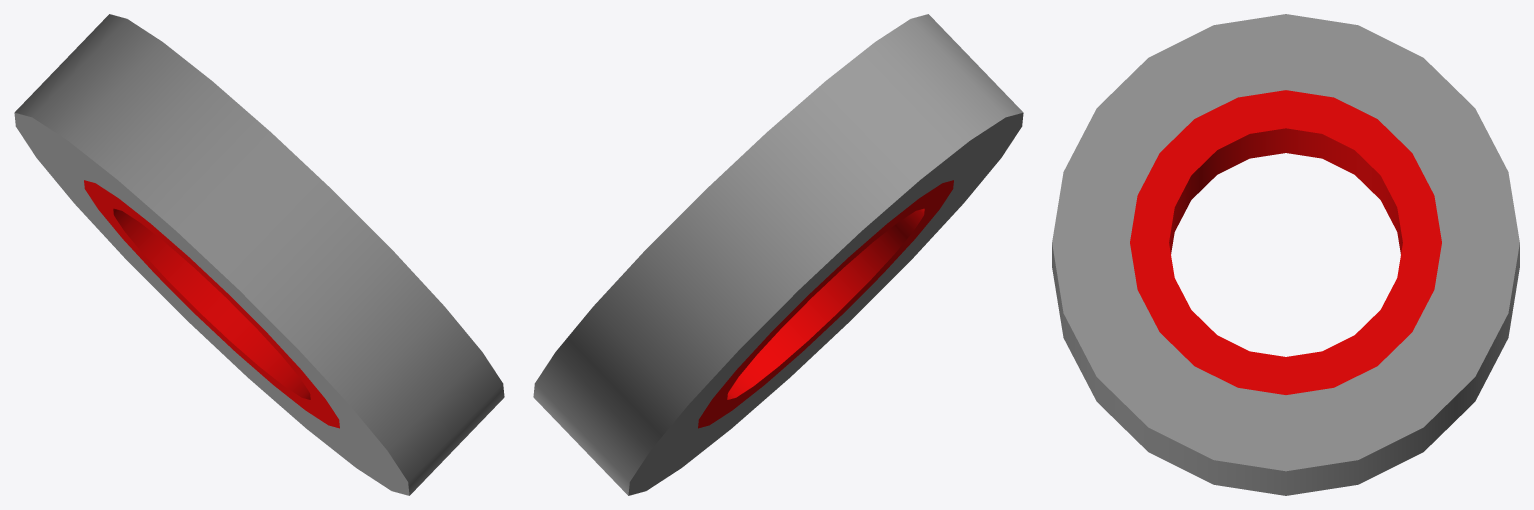
File: cellotape.fbx
3 views of the same model, side by side, from view 1: azimuth 30°, elevation 25°; view 2: azimuth 150°, elevation 25°; view 3: azimuth 270°, elevation 25° (orthographic). The views are drawn at different scales.
Parts seen in each view (by area): view 1: pPipe1; view 2: pPipe1; view 3: pPipe1.
Boxes of the visible parts, x1,y1,x2,y2 form: pPipe1: (14,14,504,495); pPipe1: (533,14,1023,495); pPipe1: (1052,14,1519,495).
Bounding box in the file's own units: 1.61 × 1.9 × 2.
